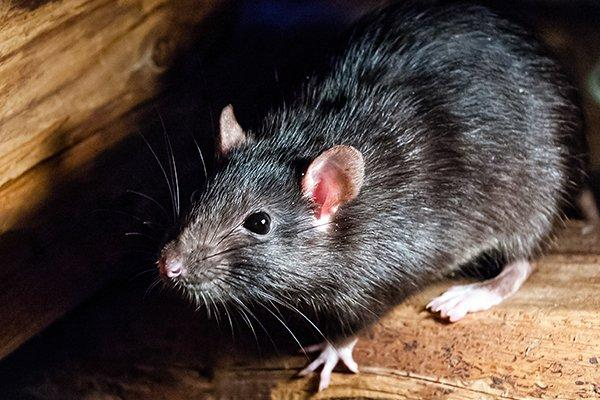Rat: (146, 20, 574, 387)
